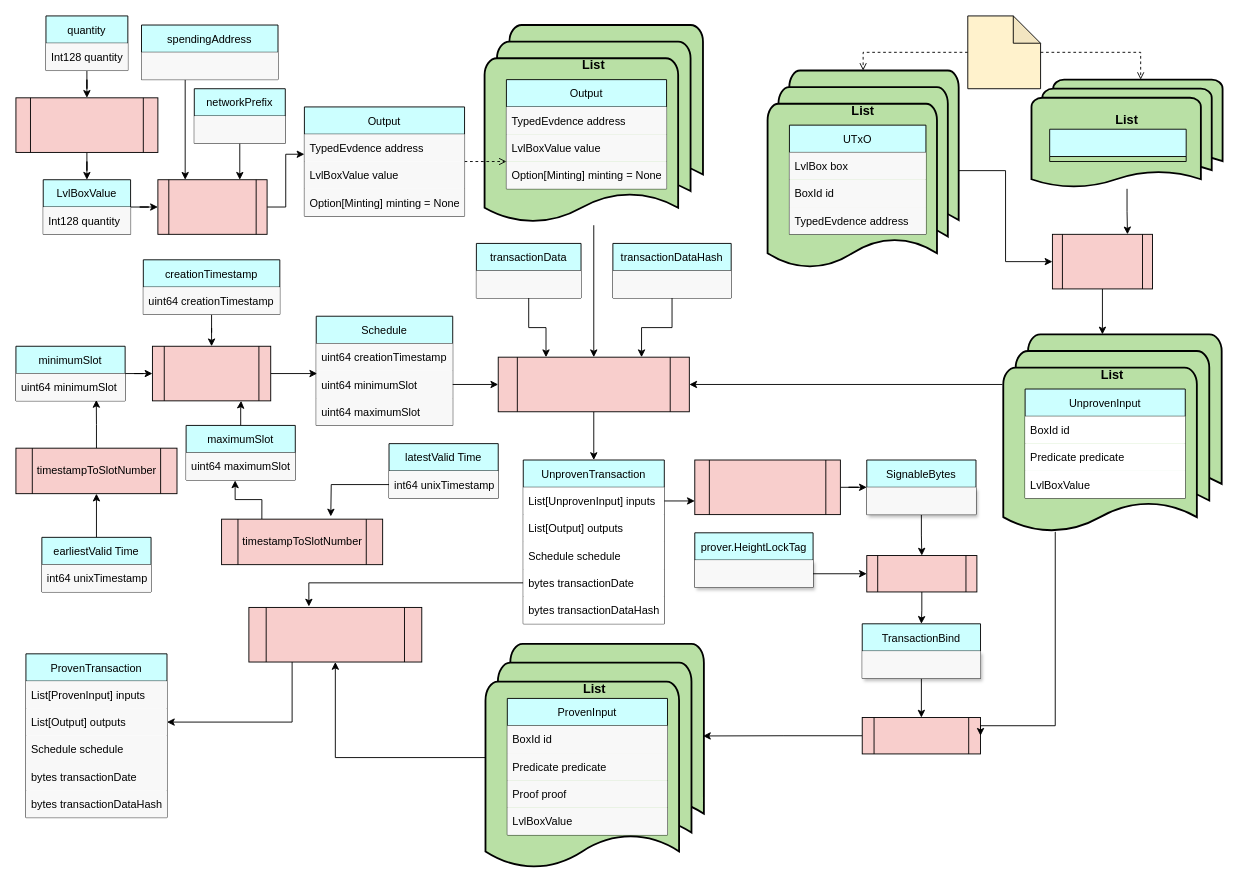
Some shapes in this 1239 by 888 pixel diagram are drawn without their labels. Each missing label, with the centre of its shape:
"buildInputs" goes at pixel 1102 261.
"bytes data" goes at pixel 528 284.
"bytes hash" goes at pixel 671 284.
"bytes signableBytes" goes at pixel 922 502.
"bytes transactionBind" goes at pixel 922 665.
"constructLvlBoxValue" goes at pixel 86 124.
"constructOutput" goes at pixel 212 206.
"constructSchedule" goes at pixel 211 373.
"inputsProver" goes at pixel 921 735.
"Must be the same length" goes at pixel 1004 52.
"Predicate" goes at pixel 1117 145.
"ProvenTransactionBuilder" goes at pixel 335 634.
"prover.bind" goes at pixel 921 573.
"signableBytesExtractor" goes at pixel 767 487.
"TypedEvidence address" goes at pixel 209 65.
"uint8 networkId" goes at pixel 239 129.
"uint8 value = 0xFF" goes at pixel 754 574.
"unprovenTransactionBuilder" goes at pixel 593 384.
